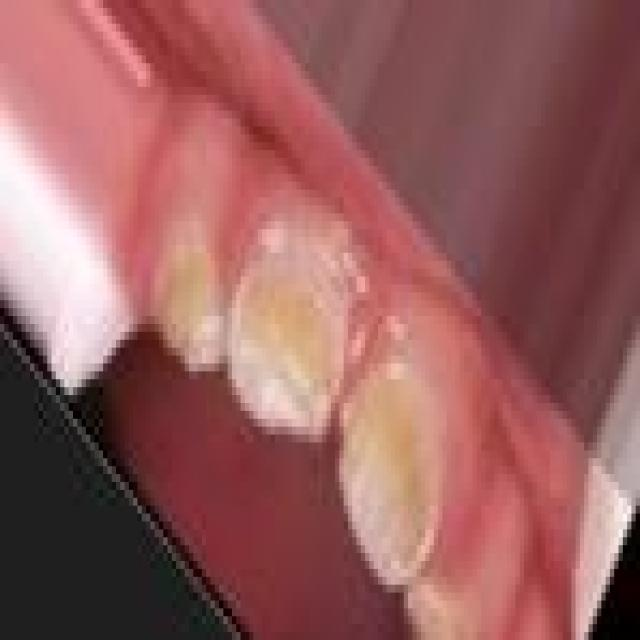caries: (227, 205, 340, 446), (338, 356, 445, 581), (148, 200, 230, 388)
